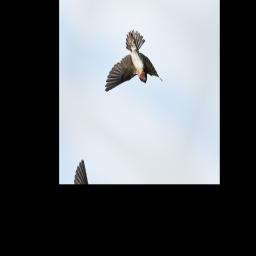Swallow: (102, 20, 172, 125)
